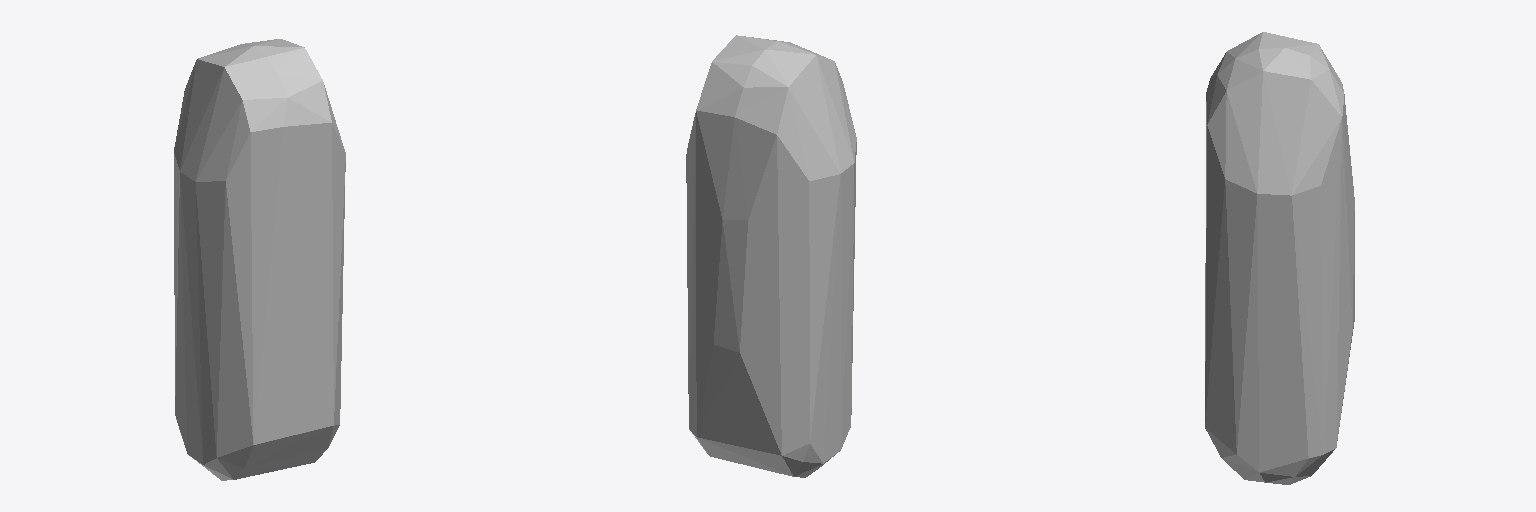
The model's file is ring_inter_col.obj.
3 renders of one model, left to right at view 1: azimuth 30°, elevation 25°; view 2: azimuth 150°, elevation 25°; view 3: azimuth 270°, elevation 25°, orthographic.
Size of the model in its own units: 0.0194 by 0.052 by 0.017.